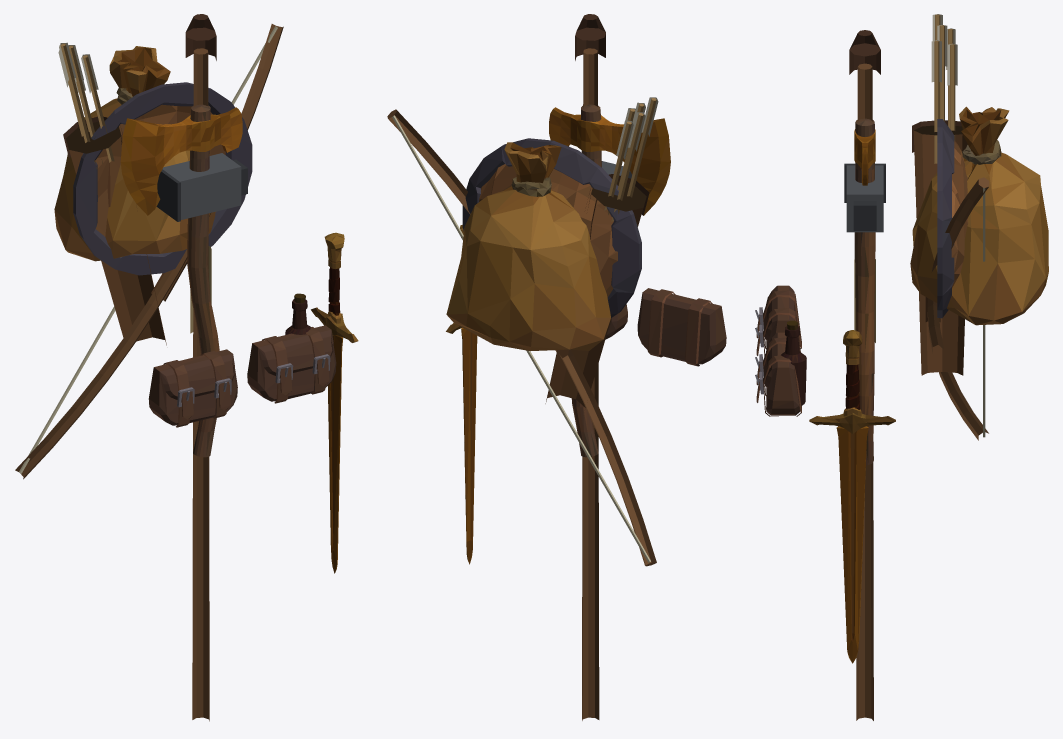
File: props_held.glb
3 renders of one model, left to right at view 1: azimuth 30°, elevation 25°; view 2: azimuth 150°, elevation 25°; view 3: azimuth 270°, elevation 25°, orthographic. The views are drawn at different scales.
Visible parts, largest first — view 1: Kit_Guard_mesh, Kit_Trader_mesh, Kit_Hunter_mesh, Kit_Woodcutter_mesh, Kit_Shepherd_mesh, Kit_Herbalist_mesh, Kit_Blacksmith_mesh; view 2: Kit_Trader_mesh, Kit_Guard_mesh, Kit_Hunter_mesh, Kit_Shepherd_mesh, Kit_Woodcutter_mesh, Kit_Herbalist_mesh; view 3: Kit_Trader_mesh, Kit_Guard_mesh, Kit_Hunter_mesh, Kit_Shepherd_mesh, Kit_Woodcutter_mesh, Kit_Herbalist_mesh, Kit_Blacksmith_mesh.
Part boxes in pixels (x1,y1,x2,y2): Kit_Guard_mesh: (73, 82, 358, 573); Kit_Trader_mesh: (54, 46, 336, 403); Kit_Hunter_mesh: (15, 24, 283, 479); Kit_Woodcutter_mesh: (120, 104, 242, 457); Kit_Shepherd_mesh: (185, 14, 216, 721); Kit_Herbalist_mesh: (148, 293, 310, 427); Kit_Blacksmith_mesh: (156, 153, 247, 357); Kit_Trader_mesh: (446, 142, 627, 351); Kit_Guard_mesh: (446, 138, 641, 564); Kit_Hunter_mesh: (387, 97, 658, 566); Kit_Shepherd_mesh: (575, 14, 605, 720); Kit_Woodcutter_mesh: (549, 104, 670, 457); Kit_Herbalist_mesh: (637, 288, 726, 366); Kit_Trader_mesh: (755, 106, 1048, 416); Kit_Guard_mesh: (809, 119, 968, 663); Kit_Hunter_mesh: (912, 14, 989, 440); Kit_Shepherd_mesh: (849, 30, 880, 720); Kit_Woodcutter_mesh: (854, 118, 875, 465); Kit_Herbalist_mesh: (755, 285, 806, 405); Kit_Blacksmith_mesh: (844, 163, 885, 232).
Bounding box in the file's own units: 0.6538 × 1.64 × 0.6343.
